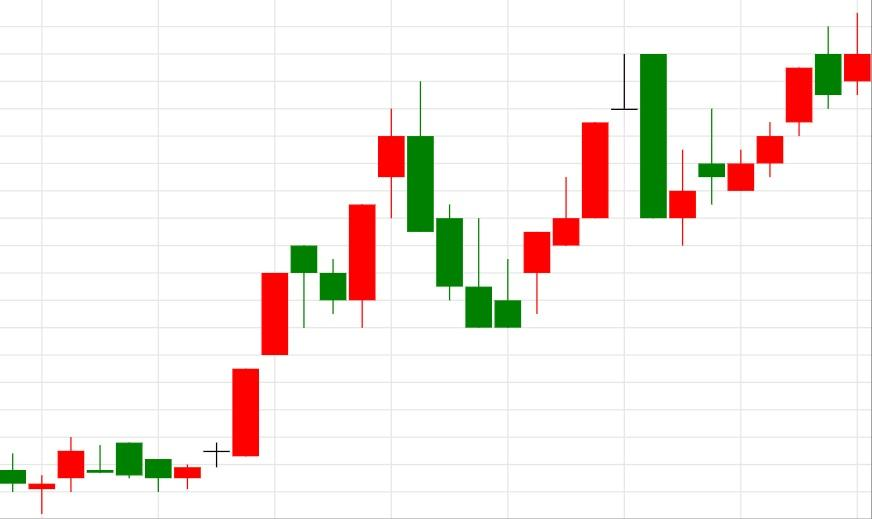hanging_man_fall: (174, 244, 318, 489)
three_black_crows_fall: (319, 82, 493, 327)
three_white_soldiers_rise: (698, 67, 814, 205)
